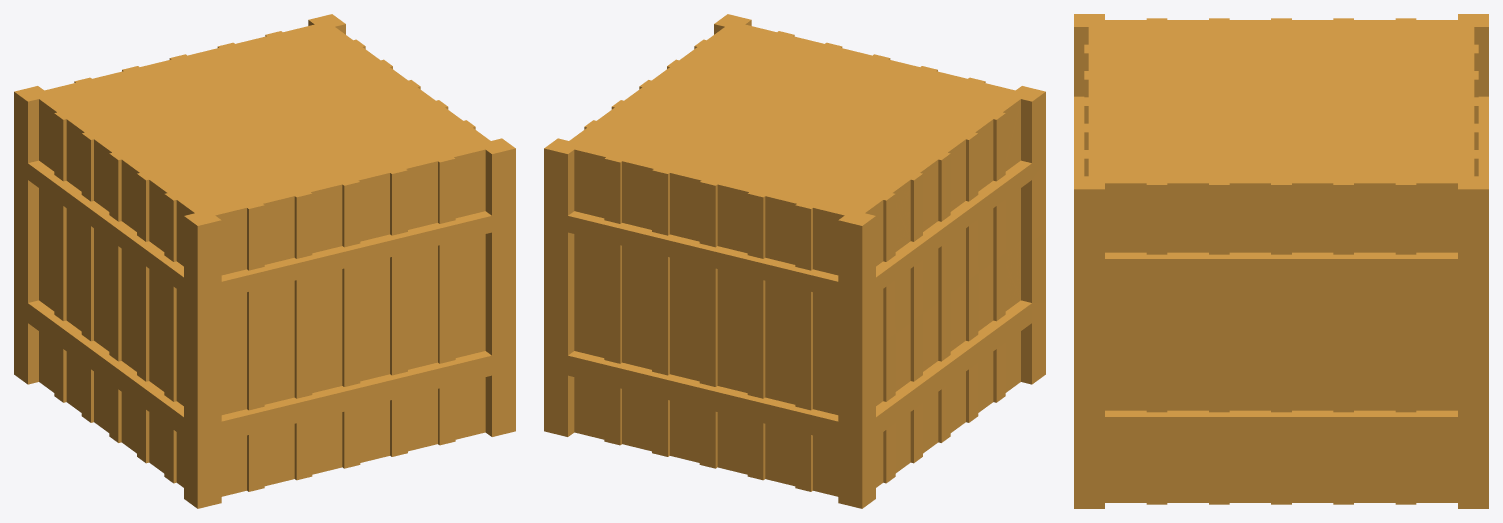
Rendered from skyscraper-part-middle.fbx.
3 views of the same model, side by side, from view 1: azimuth 30°, elevation 25°; view 2: azimuth 150°, elevation 25°; view 3: azimuth 270°, elevation 25° (orthographic). The views are drawn at different scales.
Parts seen in each view (by area): view 1: skyscraper-part-middle; view 2: skyscraper-part-middle; view 3: skyscraper-part-middle.
Boxes of the visible parts, x1,y1,x2,y2 form: skyscraper-part-middle: (14,14,515,508); skyscraper-part-middle: (544,14,1045,508); skyscraper-part-middle: (1074,14,1488,508).
Size of the model in its own units: 20 by 17 by 20.
